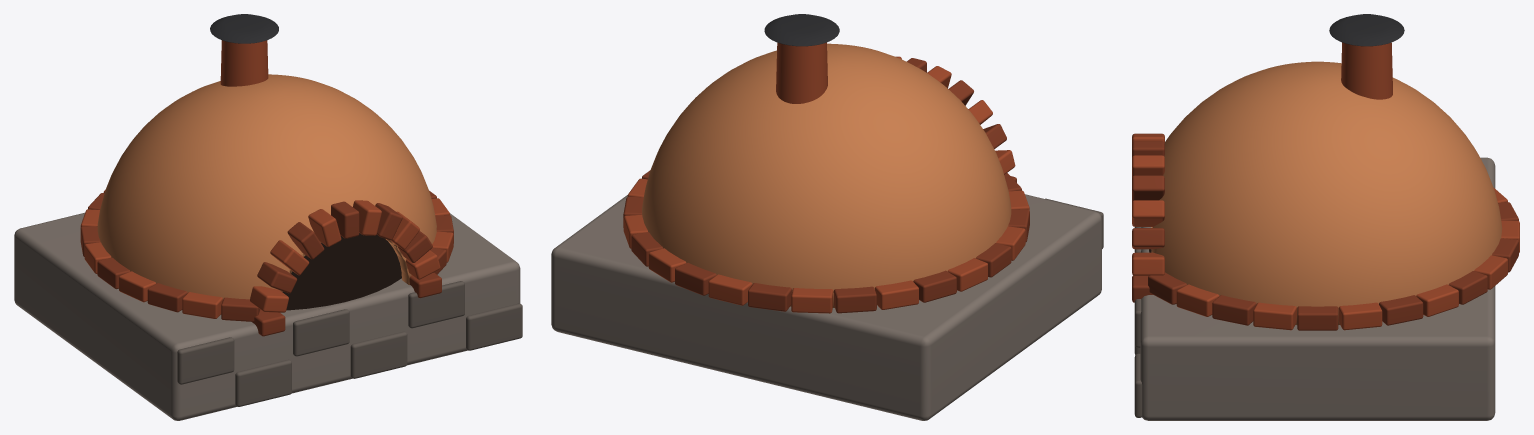
File: pizza-oven.glb
3 renders of one model, left to right at view 1: azimuth 30°, elevation 25°; view 2: azimuth 150°, elevation 25°; view 3: azimuth 270°, elevation 25°, orthographic. The views are drawn at different scales.
Parts seen in each view (by area): view 1: Dome, Base, Oven floor, Base block, Base block.003, Base block.002, Chimney, Base block.005, Base block.001, Base block.004, Chimney cap, Ring brick.017 (+18 smaller); view 2: Dome, Base, Chimney, Chimney cap, Ring brick.008, Ring brick.010, Ring brick.009, Ring brick.011, Ring brick.007, Ring brick.012, Ring brick.006, Ring brick.013 (+4 smaller); view 3: Dome, Base, Chimney, Chimney cap, Ring brick.001, Ring brick.022, Ring brick, Ring brick.002, Ring brick.021, Ring brick.020, Ring brick.003, Arch brick.003 (+12 smaller).
Part boxes in pixels (x1=…): Dome: x1=97, y1=74, x2=436, y2=299; Base: x1=14, y1=212, x2=520, y2=420; Oven floor: x1=282, y1=233, x2=401, y2=310; Base block: x1=177, y1=337, x2=234, y2=384; Base block.003: x1=350, y1=331, x2=407, y2=378; Base block.002: x1=293, y1=309, x2=349, y2=356; Chimney: x1=220, y1=40, x2=268, y2=86; Base block.005: x1=466, y1=303, x2=522, y2=350; Base block.001: x1=235, y1=359, x2=291, y2=406; Base block.004: x1=408, y1=281, x2=464, y2=328; Chimney cap: x1=210, y1=14, x2=278, y2=43; Ring brick.017: x1=182, y1=292, x2=222, y2=318; Dome: x1=642, y1=43, x2=1011, y2=307; Base: x1=551, y1=194, x2=1101, y2=420; Chimney: x1=776, y1=42, x2=827, y2=103; Chimney cap: x1=764, y1=14, x2=839, y2=46; Ring brick.008: x1=748, y1=283, x2=791, y2=311; Ring brick.010: x1=833, y1=286, x2=876, y2=313; Ring brick.009: x1=791, y1=288, x2=833, y2=313; Ring brick.011: x1=875, y1=280, x2=918, y2=309; Ring brick.007: x1=708, y1=274, x2=752, y2=305; Ring brick.012: x1=913, y1=270, x2=956, y2=302; Ring brick.006: x1=675, y1=262, x2=716, y2=295; Ring brick.013: x1=947, y1=258, x2=987, y2=291; Dome: x1=1151, y1=61, x2=1502, y2=324; Base: x1=1140, y1=157, x2=1495, y2=420; Chimney: x1=1341, y1=42, x2=1392, y2=99; Chimney cap: x1=1329, y1=14, x2=1404, y2=46; Ring brick.001: x1=1338, y1=302, x2=1382, y2=330; Ring brick.022: x1=1253, y1=302, x2=1296, y2=330; Ring brick: x1=1297, y1=306, x2=1338, y2=330; Ring brick.002: x1=1379, y1=295, x2=1423, y2=325; Ring brick.021: x1=1212, y1=295, x2=1256, y2=325; Ring brick.020: x1=1176, y1=284, x2=1219, y2=316; Ring brick.003: x1=1416, y1=284, x2=1458, y2=316; Arch brick.003: x1=1132, y1=200, x2=1164, y2=226.
Size of the model in its own units: 1.6 by 1.25 by 1.42.
